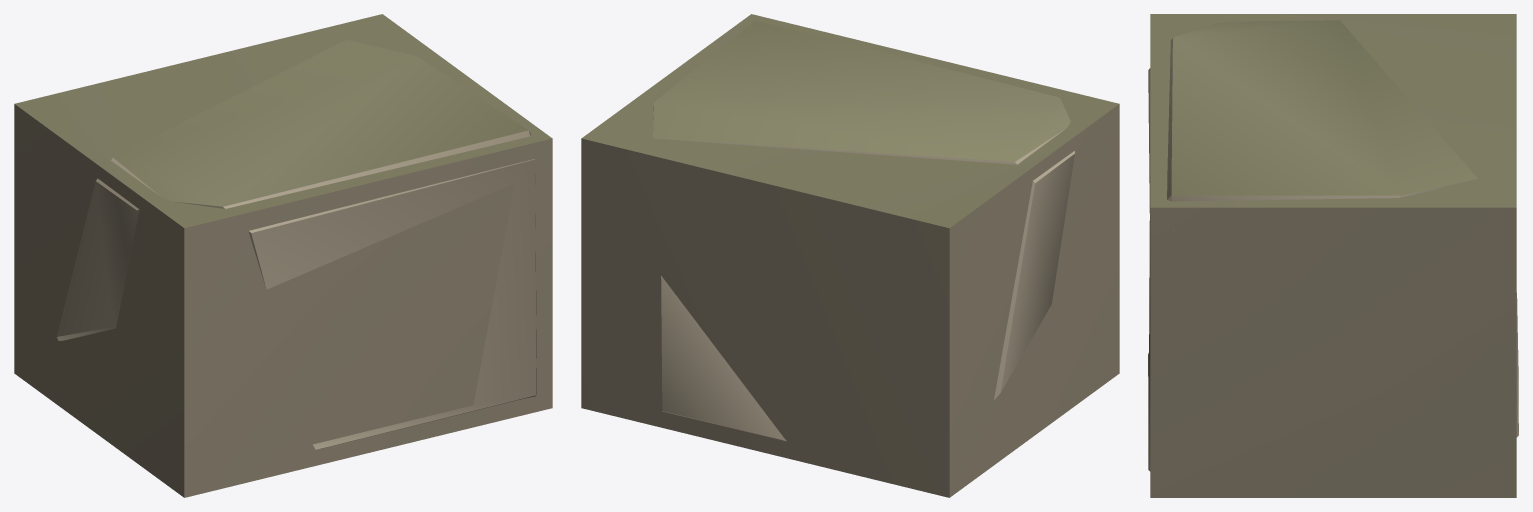
The model's file is temple_break_chunk.glb.
3 renders of one model, left to right at view 1: azimuth 30°, elevation 25°; view 2: azimuth 150°, elevation 25°; view 3: azimuth 270°, elevation 25°, orthographic. The views are drawn at different scales.
Parts seen in each view (by area): view 1: temple_break_chunk_far, temple_break_chunk; view 2: temple_break_chunk_far, temple_break_chunk; view 3: temple_break_chunk_far, temple_break_chunk.
Boxes of the visible parts, x1,y1,x2,y2 form: temple_break_chunk_far: [14, 14, 552, 497]; temple_break_chunk: [57, 40, 536, 449]; temple_break_chunk_far: [581, 14, 1119, 497]; temple_break_chunk: [652, 20, 1074, 441]; temple_break_chunk_far: [1150, 14, 1516, 497]; temple_break_chunk: [1148, 20, 1518, 471].
Size of the model in its own units: 1.01 by 0.7186 by 0.8097.
